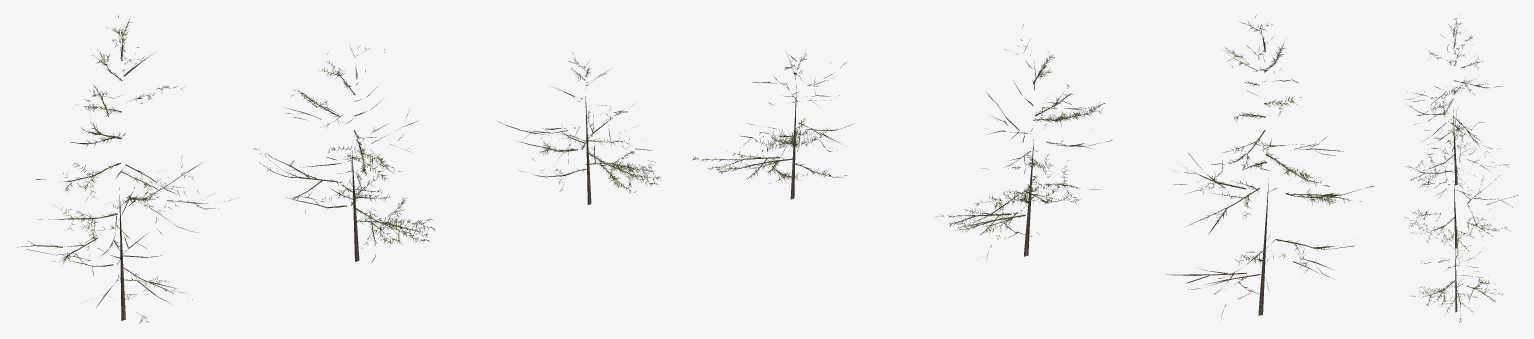
The model's file is fir_sapling.glb.
3 views of the same model, side by side, from view 1: azimuth 30°, elevation 25°; view 2: azimuth 150°, elevation 25°; view 3: azimuth 270°, elevation 25° (orthographic). The views are drawn at different scales.
Parts seen in each view (by area): view 1: fir_sapling_a, fir_sapling_b, fir_sapling_c; view 2: fir_sapling_a, fir_sapling_b, fir_sapling_c; view 3: fir_sapling_a, fir_sapling_b, fir_sapling_c.
Boxes of the visible parts, bbox=[...] form: fir_sapling_a: bbox=[17, 15, 231, 323]; fir_sapling_b: bbox=[253, 45, 435, 261]; fir_sapling_c: bbox=[497, 52, 660, 204]; fir_sapling_a: bbox=[1166, 15, 1374, 317]; fir_sapling_b: bbox=[935, 24, 1112, 260]; fir_sapling_c: bbox=[692, 50, 852, 199]; fir_sapling_a: bbox=[1405, 18, 1509, 187]; fir_sapling_b: bbox=[1404, 121, 1518, 257]; fir_sapling_c: bbox=[1410, 229, 1502, 322].
Bounding box in the file's own units: 2.72 × 1.24 × 0.7726.
Materials: 2 (2 with a texture image).
